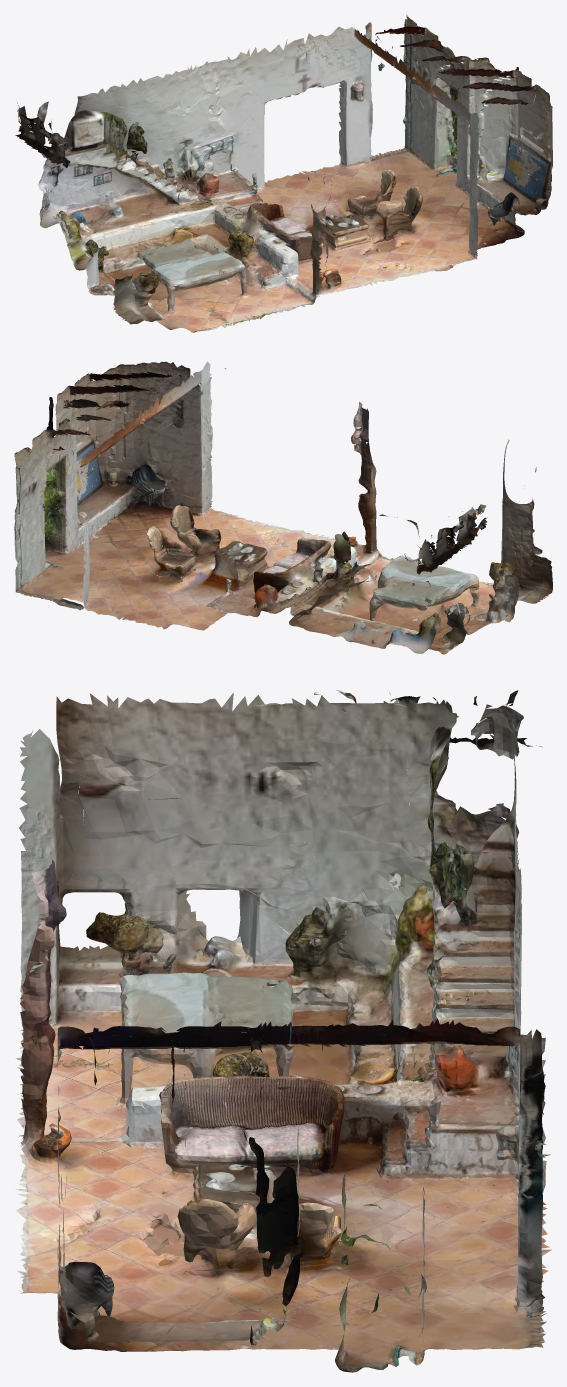
Rendered from esc_baja_muros_04.glb.
The picture shows the model from 3 angles, top to bottom: view 1: azimuth 30°, elevation 25°; view 2: azimuth 150°, elevation 25°; view 3: azimuth 270°, elevation 25°; orthographic projection. The views are drawn at different scales.
Parts seen in each view (by area): view 1: muros_Salon_y_porche_4_GLTF_12, muros_Salon_y_porche_4_GLTF_8, muros_Salon_y_porche_4_GLTF_9, muros_Salon_y_porche_4_GLTF_7, muros_Salon_y_porche_4_GLTF_1, muros_Salon_y_porche_4_GLTF_5, muros_Salon_y_porche_4_GLTF_10, muros_Salon_y_porche_4_GLTF_13, muros_Salon_y_porche_4_GLTF_6, muros_Salon_y_porche_4_GLTF_2, muros_Salon_y_porche_4_GLTF_11, muros_Salon_y_porche_4_GLTF_4 (+2 smaller); view 2: muros_Salon_y_porche_4_GLTF_12, muros_Salon_y_porche_4_GLTF_7, muros_Salon_y_porche_4_GLTF_10, muros_Salon_y_porche_4_GLTF_13, muros_Salon_y_porche_4_GLTF_6, muros_Salon_y_porche_4_GLTF_9, muros_Salon_y_porche_4_GLTF_11, muros_Salon_y_porche_4_GLTF_1, muros_Salon_y_porche_4_GLTF_5, muros_Salon_y_porche_4_GLTF, muros_Salon_y_porche_4_GLTF_2, muros_Salon_y_porche_4_GLTF_8 (+2 smaller); view 3: muros_Salon_y_porche_4_GLTF_8, muros_Salon_y_porche_4_GLTF_12, muros_Salon_y_porche_4_GLTF_7, muros_Salon_y_porche_4_GLTF_6, muros_Salon_y_porche_4_GLTF_9, muros_Salon_y_porche_4_GLTF_13, muros_Salon_y_porche_4_GLTF, muros_Salon_y_porche_4_GLTF_11, muros_Salon_y_porche_4_GLTF_1, muros_Salon_y_porche_4_GLTF_2, muros_Salon_y_porche_4_GLTF_5, muros_Salon_y_porche_4_GLTF_10 (+2 smaller).
Part boxes in pixels (x1,y1,x2,y2): muros_Salon_y_porche_4_GLTF_12: (42,33,538,323); muros_Salon_y_porche_4_GLTF_8: (48,29,550,280); muros_Salon_y_porche_4_GLTF_9: (19,68,477,313); muros_Salon_y_porche_4_GLTF_7: (37,26,551,315); muros_Salon_y_porche_4_GLTF_1: (38,36,552,319); muros_Salon_y_porche_4_GLTF_5: (56,14,521,271); muros_Salon_y_porche_4_GLTF_10: (19,27,552,300); muros_Salon_y_porche_4_GLTF_13: (15,37,494,304); muros_Salon_y_porche_4_GLTF_6: (66,26,552,332); muros_Salon_y_porche_4_GLTF_2: (85,57,500,271); muros_Salon_y_porche_4_GLTF_11: (43,22,515,316); muros_Salon_y_porche_4_GLTF_4: (35,77,457,325); muros_Salon_y_porche_4_GLTF_12: (14,368,549,646); muros_Salon_y_porche_4_GLTF_7: (21,361,504,654); muros_Salon_y_porche_4_GLTF_10: (14,373,513,632); muros_Salon_y_porche_4_GLTF_13: (22,372,552,649); muros_Salon_y_porche_4_GLTF_6: (52,362,521,629); muros_Salon_y_porche_4_GLTF_9: (44,370,477,647); muros_Salon_y_porche_4_GLTF_11: (109,361,512,622); muros_Salon_y_porche_4_GLTF_1: (43,385,448,646); muros_Salon_y_porche_4_GLTF_5: (14,395,457,641); muros_Salon_y_porche_4_GLTF: (46,362,542,636); muros_Salon_y_porche_4_GLTF_2: (45,483,552,644); muros_Salon_y_porche_4_GLTF_8: (71,379,536,636); muros_Salon_y_porche_4_GLTF_8: (56,692,542,1241); muros_Salon_y_porche_4_GLTF_12: (20,690,545,1372); muros_Salon_y_porche_4_GLTF_7: (17,705,546,1351); muros_Salon_y_porche_4_GLTF_6: (15,693,547,1323); muros_Salon_y_porche_4_GLTF_9: (17,694,516,1312); muros_Salon_y_porche_4_GLTF_13: (30,737,542,1328); muros_Salon_y_porche_4_GLTF: (19,714,550,1335); muros_Salon_y_porche_4_GLTF_11: (32,690,551,1345); muros_Salon_y_porche_4_GLTF_1: (20,707,545,1349); muros_Salon_y_porche_4_GLTF_2: (45,912,514,1370); muros_Salon_y_porche_4_GLTF_5: (148,842,546,1363); muros_Salon_y_porche_4_GLTF_10: (57,696,521,1372).
Bounding box in the file's own units: 10.83 × 3.72 × 5.77.
Materials: 14 (14 with a texture image).
